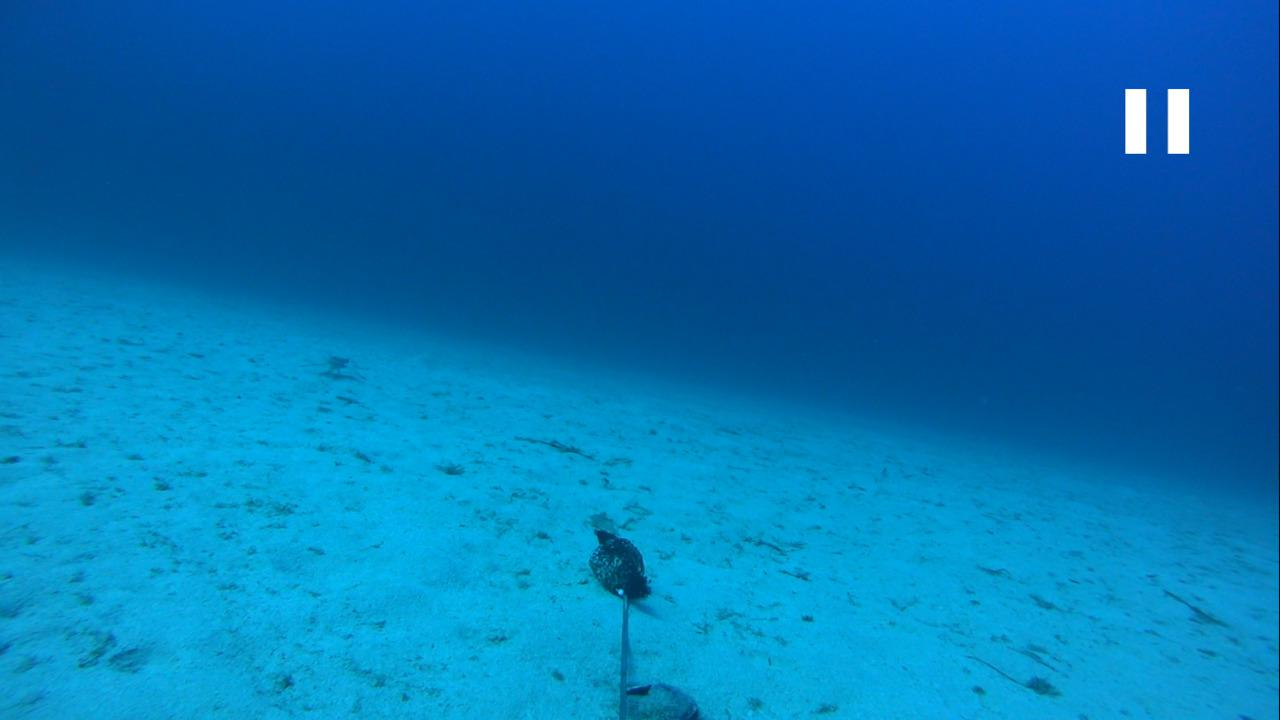dactylopterus: (303, 348, 360, 377)
